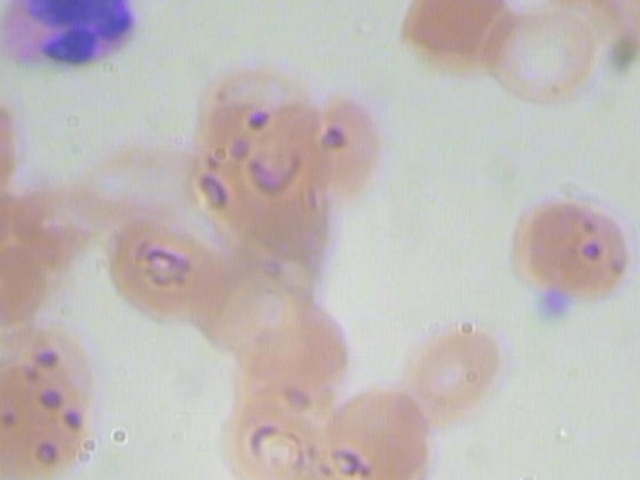Platelets: (526, 285, 574, 327)
RBC: (496, 186, 640, 307), (105, 210, 230, 323), (388, 317, 512, 430), (482, 0, 606, 106), (0, 359, 106, 480), (317, 383, 442, 480), (206, 383, 331, 480), (239, 288, 360, 388), (393, 0, 518, 78), (312, 91, 387, 199), (635, 262, 640, 371)
WBC: (0, 0, 140, 82)
